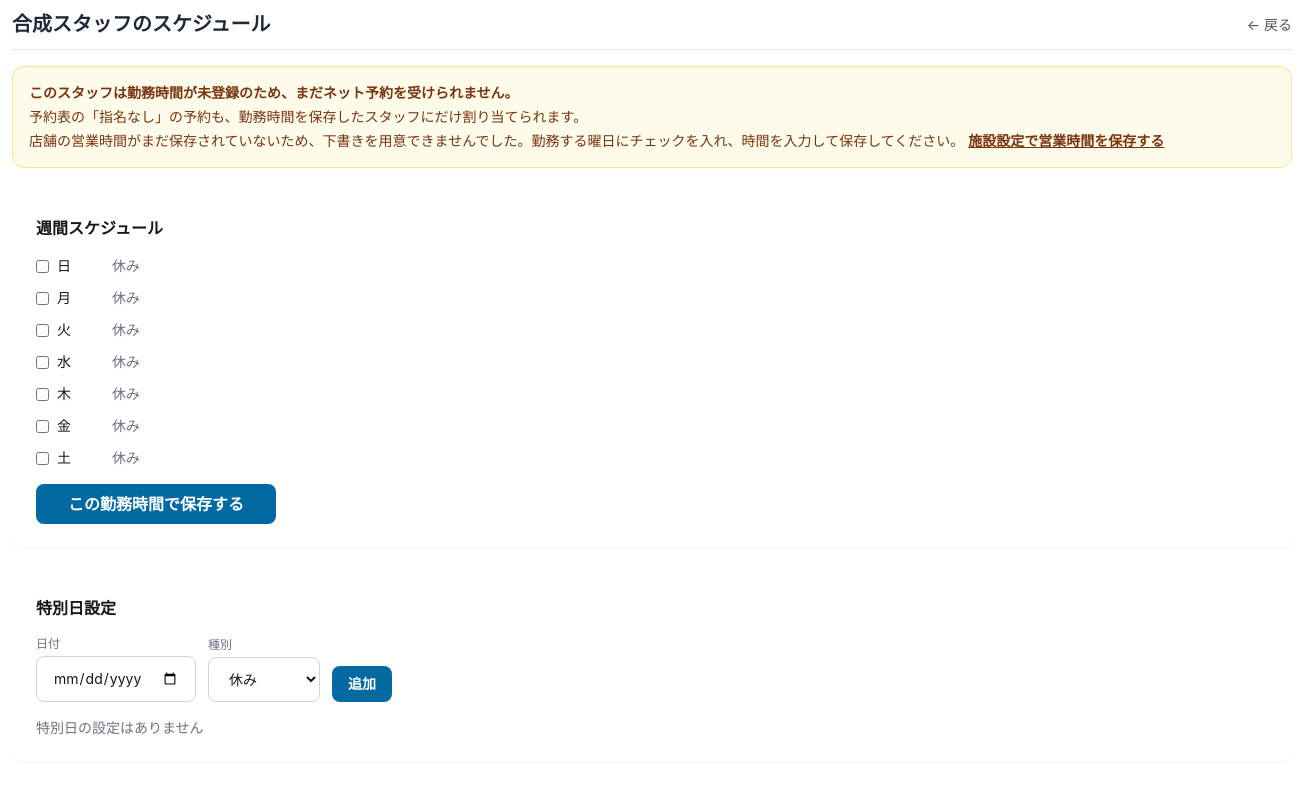
empty stored weekly schedule without confirmed shop hours displays all days off and refuses to save zero working days
Check: the text "このスタッフは勤務時間が未登録のため、まだネット予約を受けられません。" is shown, box 29,84 -> 519,101
Check: the checkbox labelled "日" is not checked, box 36,260 -> 49,272
勤務日0日の保存は「成功」に見えて、このスタッフに予約が1件も入らない。理由を示して止める。
Click the button "この勤務時間で保存する". click: (156, 504)
box: 36,484 -> 276,524
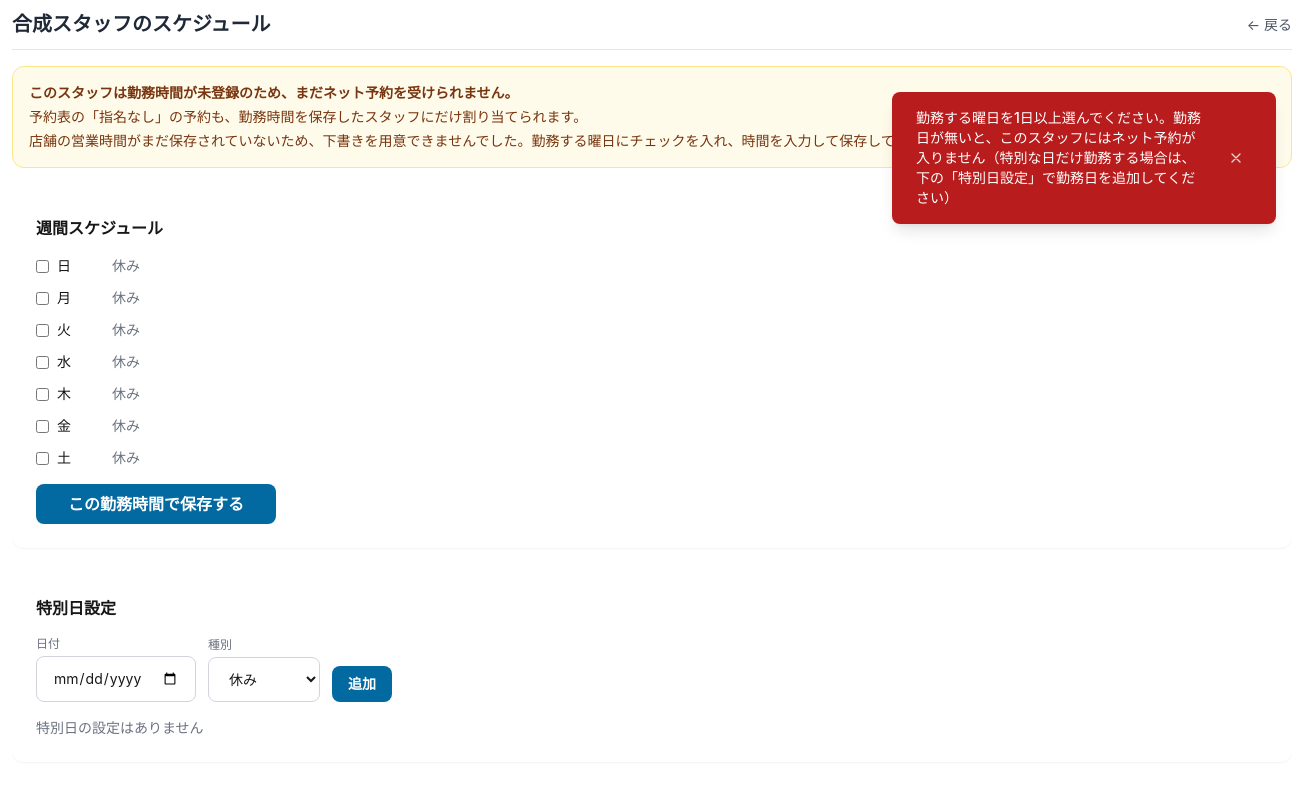
Check: the text "勤務する曜日を1日以上選んでください。勤務日が無いと、このスタッフにはネット予約が入りません（特別な日だけ勤務する場合は、下の「特別日設定」で勤務日を追加してください）" is shown, box 916,109 -> 1201,206
